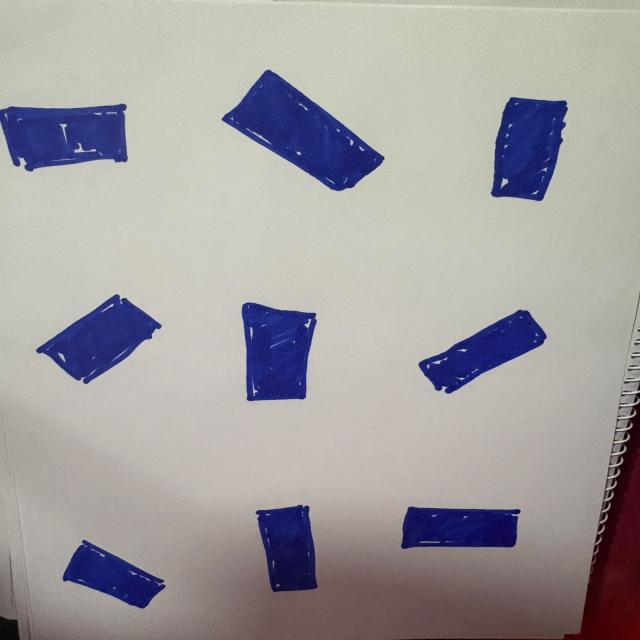Rectangle: (222, 70, 383, 190), (37, 295, 161, 384), (419, 310, 546, 393), (0, 104, 126, 171), (491, 98, 567, 200), (242, 303, 316, 401), (63, 540, 165, 608), (255, 505, 317, 592), (401, 507, 519, 548)
